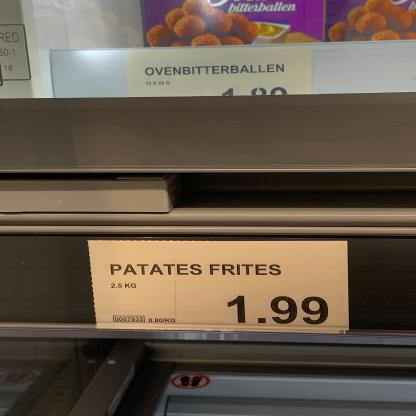prtg: (88, 242, 350, 333), (126, 47, 316, 99)
